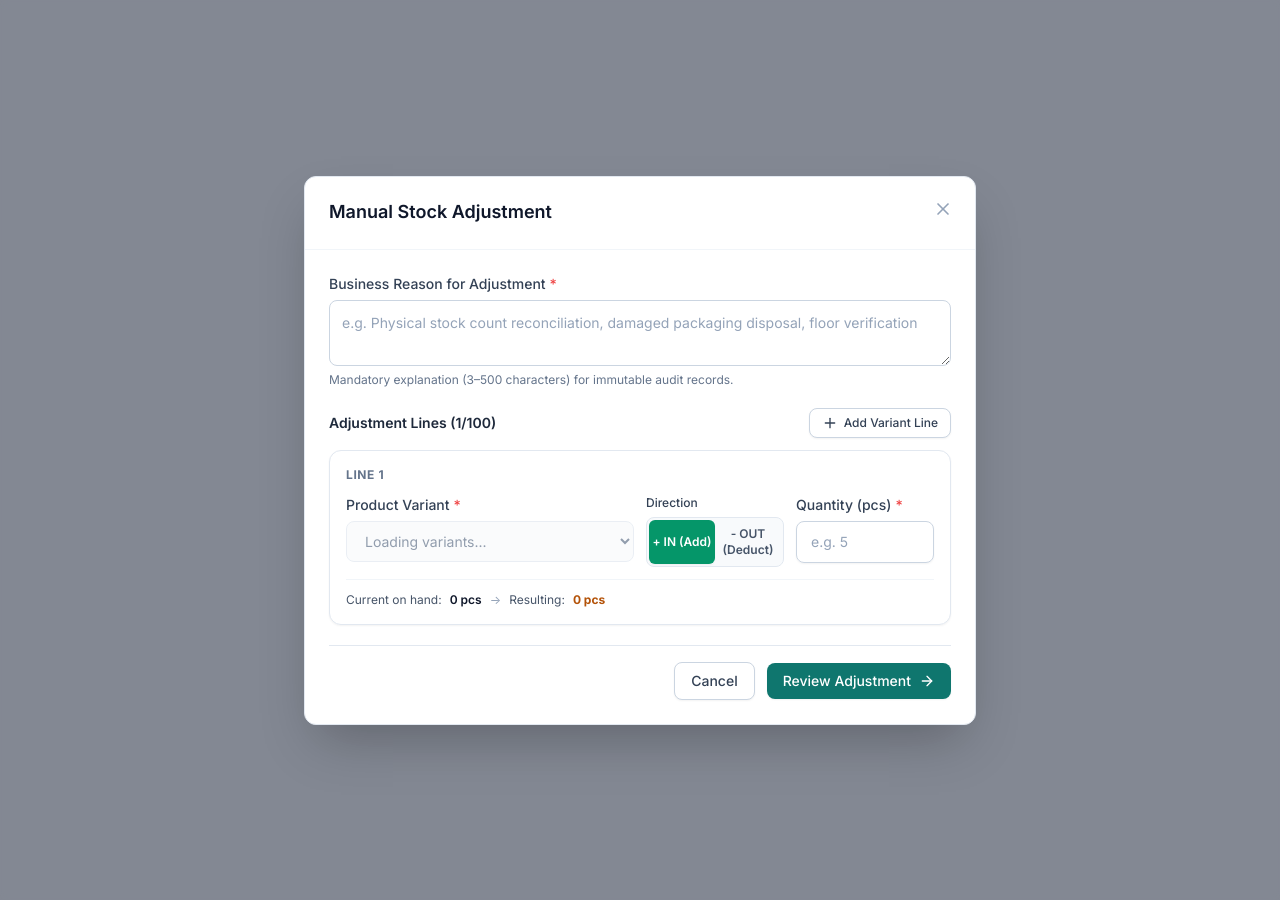
it: StockAdjustmentModal Component Tests › blocks negative stock deduction on variant with zero stock on hand
This screenshot has width=1280, height=900.
Click the button "- OUT (Deduct)".
click(748, 542)  # box [715,520,781,564]
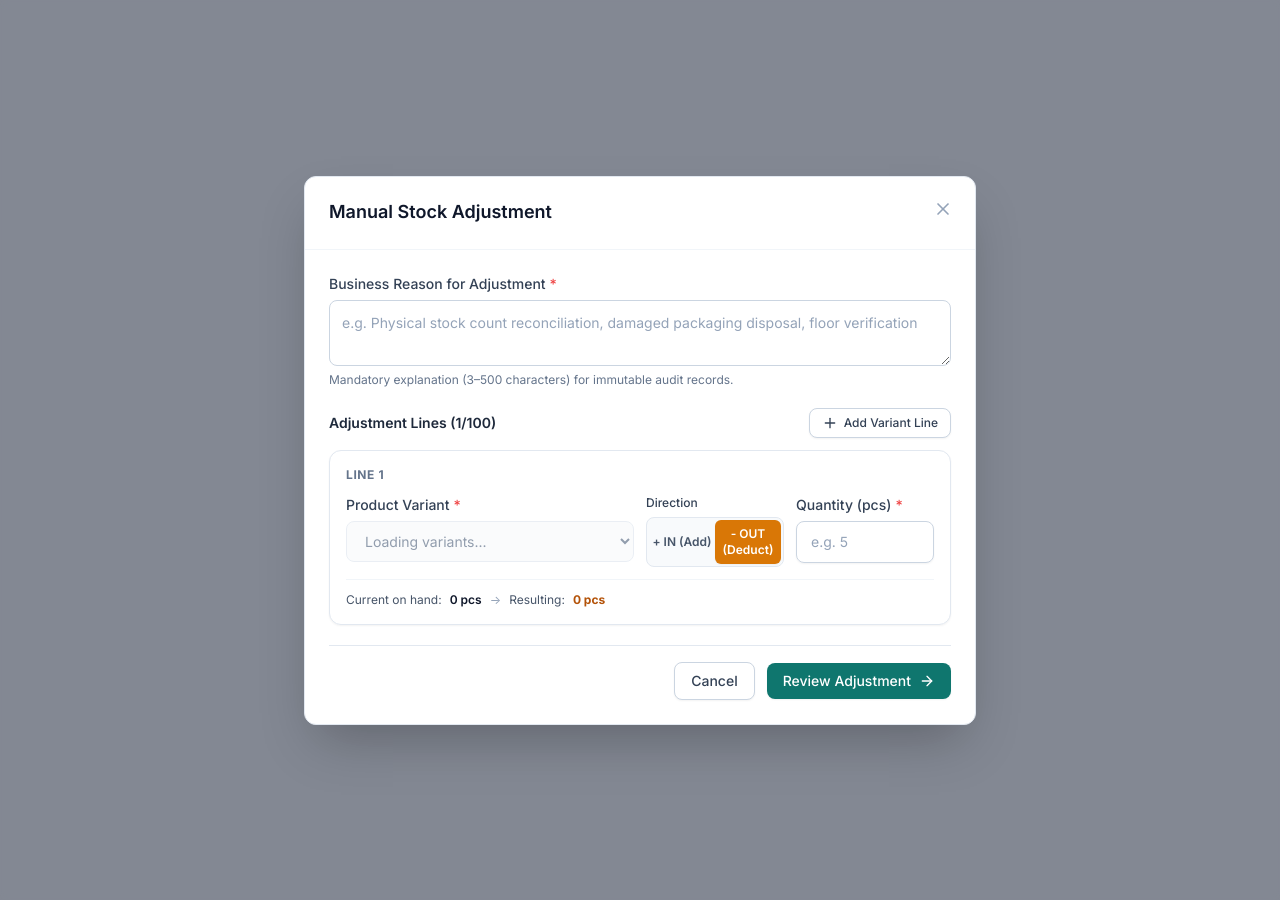
Type "1" into the number field with placeholder "e.g. 5".
click(865, 542); type("1")  # box [796,520,934,562]
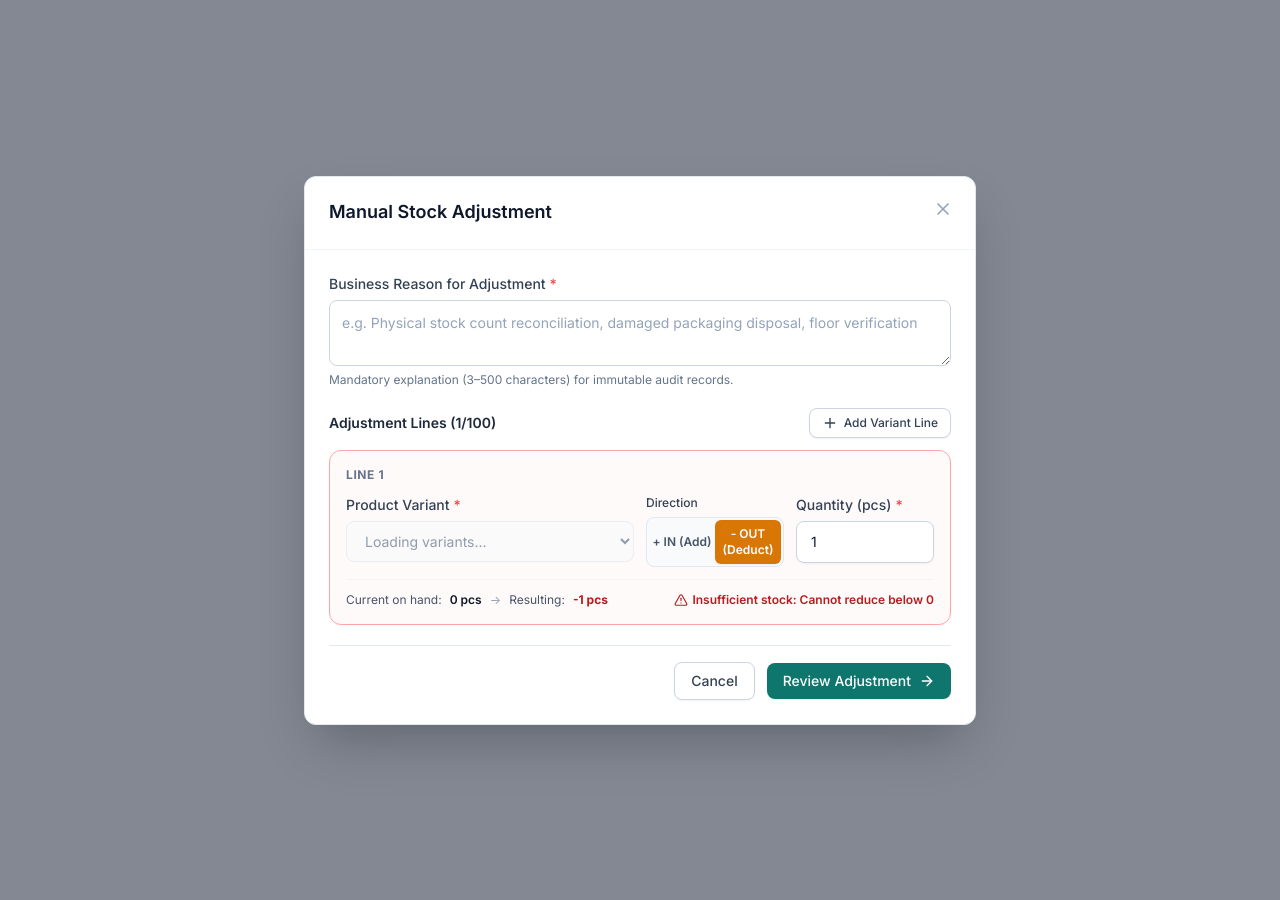
Replace the text in the text box labelled "Business Reason for Adjustment*" with "Physical verification disposal" at (640, 332), box [329,300,951,366]
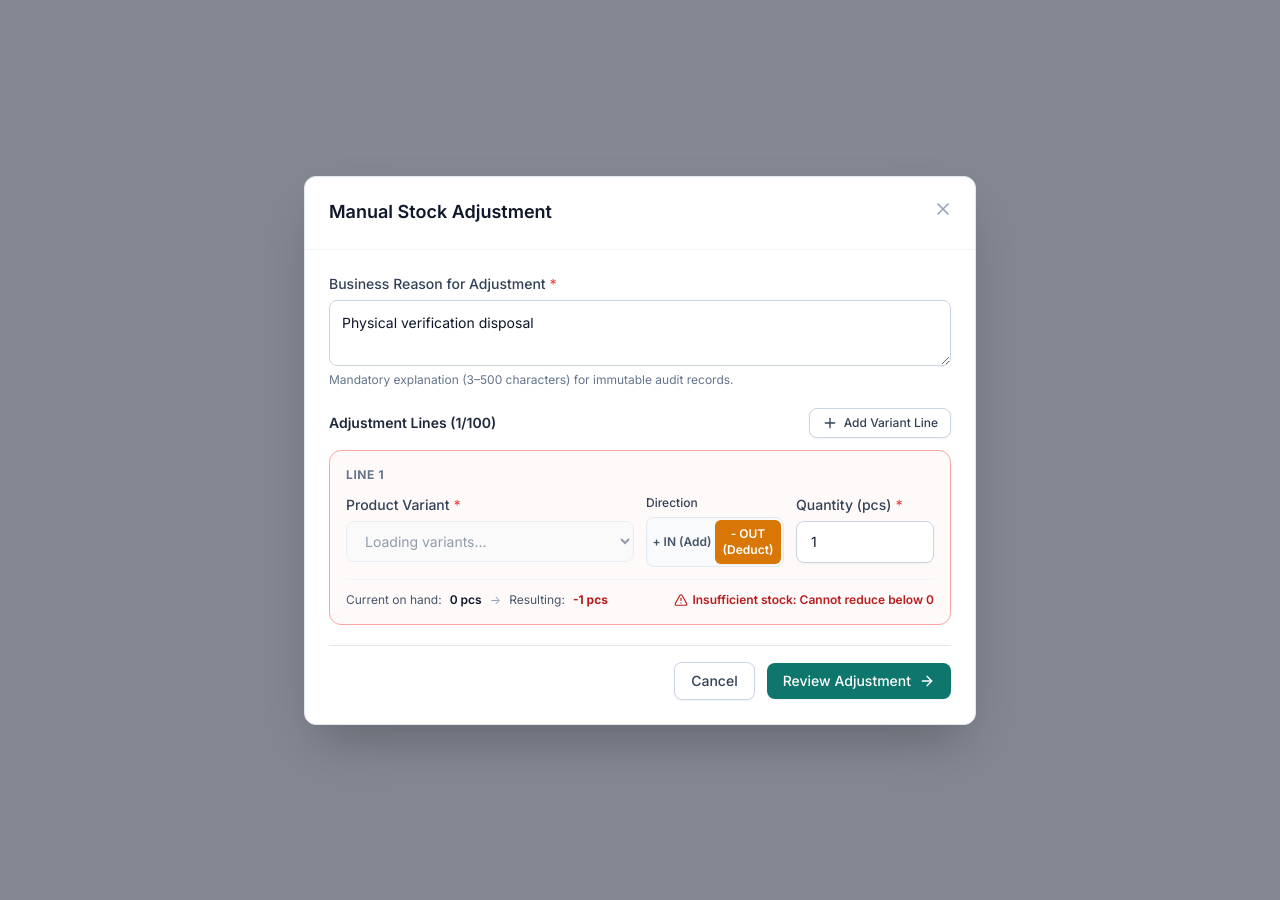
Click the button "Review Adjustment".
click(859, 680)  # box [767,662,951,698]
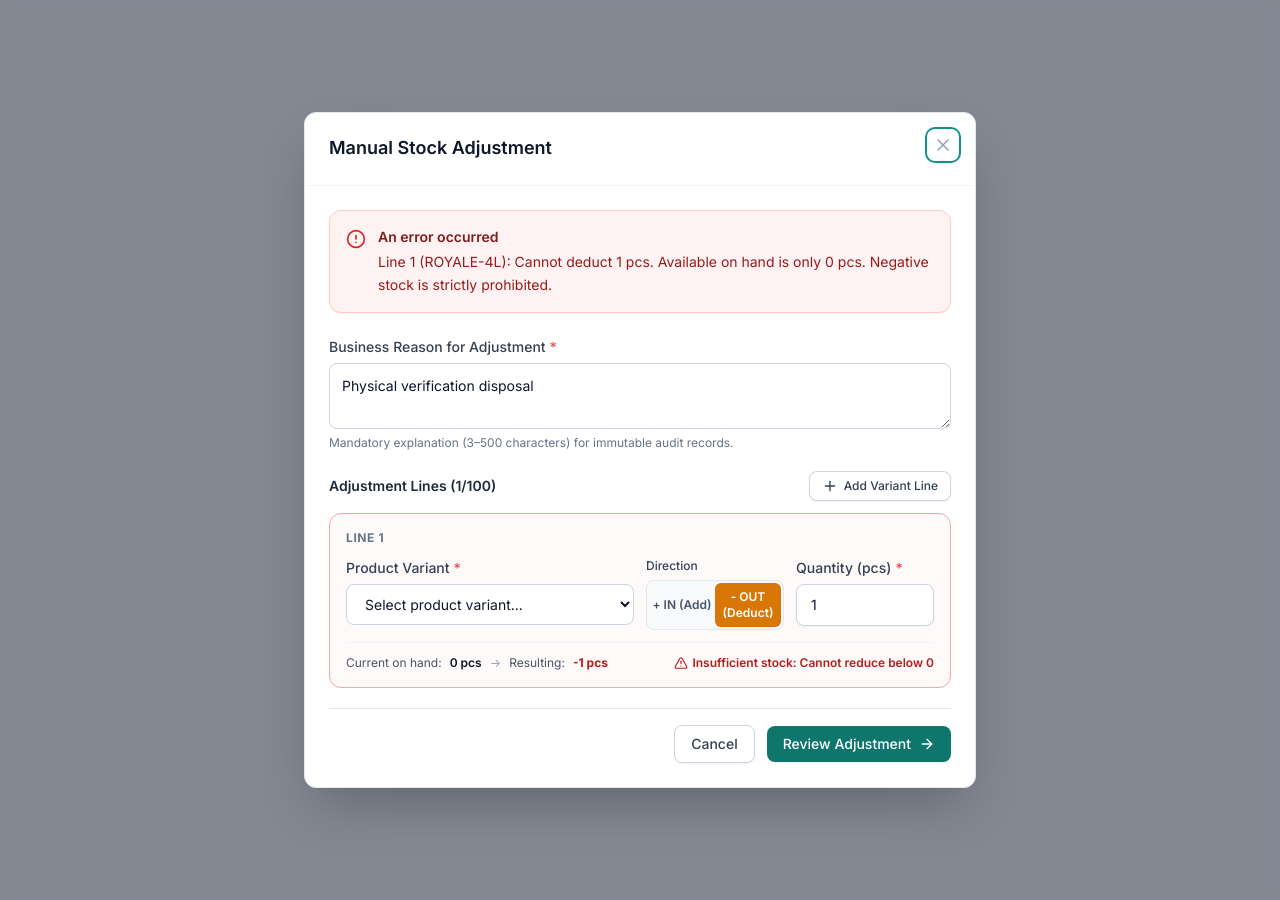
Expected: the text "Cannot deduct 1 pcs. Available on hand is only 0 pcs" is shown, [378,253,929,293]
